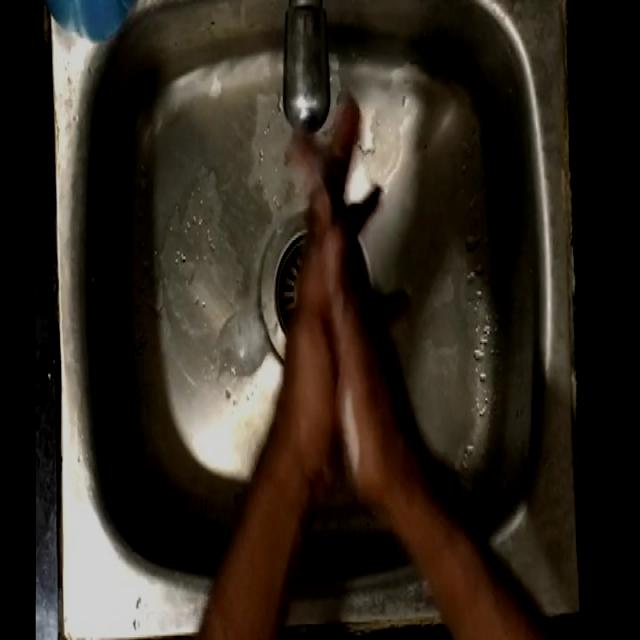step_3: (262, 94, 414, 448)
